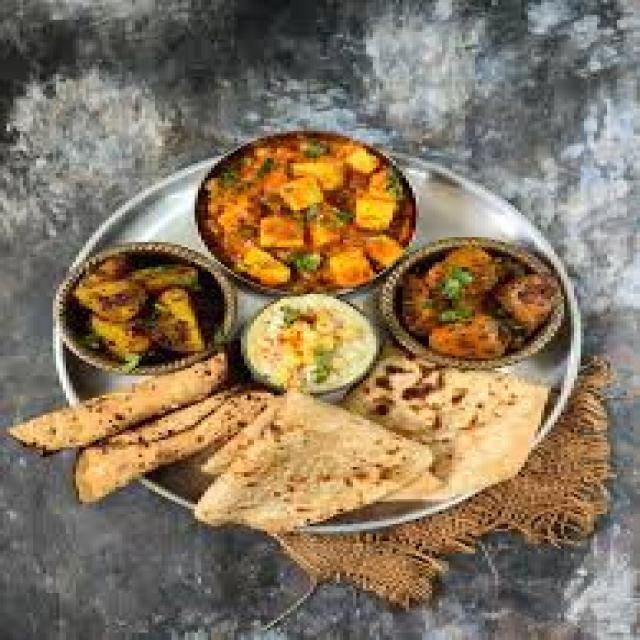rice: (226, 287, 390, 396)
roti: (44, 376, 559, 516)
sweet: (55, 249, 235, 381)
veg: (185, 117, 420, 308)
veg-fry: (371, 232, 571, 375), (50, 249, 230, 386)
